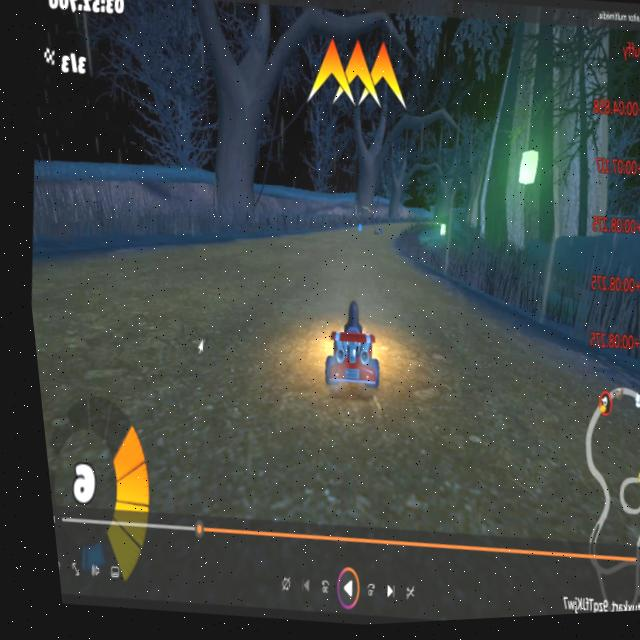bonus: (349, 223, 358, 237)
player_kart: (307, 300, 390, 409)
track: (245, 236, 406, 302)
